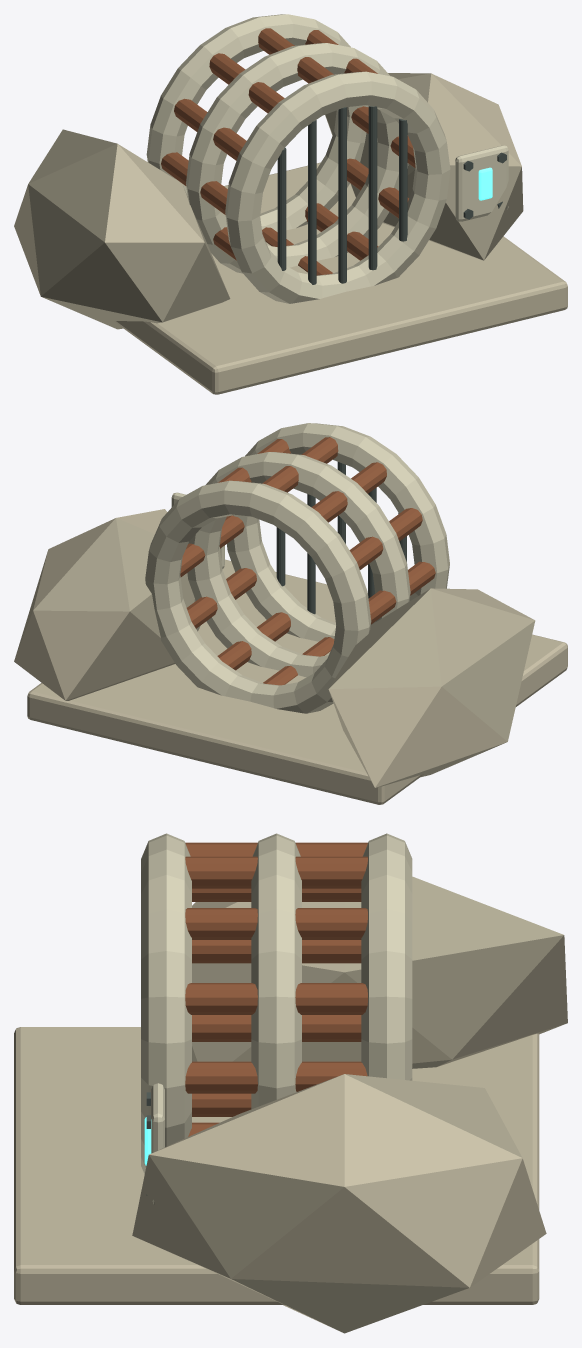
Rendered from Spring_Intake.glb.
3 renders of one model, top to bottom at view 1: azimuth 30°, elevation 25°; view 2: azimuth 150°, elevation 25°; view 3: azimuth 270°, elevation 25°, orthographic. The views are drawn at different scales.
Visible parts, largest first — view 1: Intake base, Intake abutment, Pipe collar, Pipe collar.001, Pipe collar.002, Intake abutment.001, Service plate, Intake grille.003, Intake grille.002, Intake grille.001, Outer pipe stave.005, Outer pipe stave.004 (+9 smaller); view 2: Intake abutment, Intake base, Intake abutment.001, Pipe collar.002, Pipe collar.001, Pipe collar, Outer pipe stave.005, Outer pipe stave.004, Outer pipe stave.011, Outer pipe stave.010, Outer pipe stave.006, Outer pipe stave.003 (+5 smaller); view 3: Intake abutment.001, Intake base, Intake abutment, Pipe collar, Pipe collar.001, Pipe collar.002, Outer pipe stave.001, Outer pipe stave.002, Outer pipe stave.003, Outer pipe stave, Outer pipe stave.007, Outer pipe stave.006 (+4 smaller).
Boxes of the visible parts, left/top/right/bottom form: Intake base: left=114, top=162, right=567, bottom=394; Intake abutment: left=14, top=129, right=230, bottom=329; Pipe collar: left=225, top=71, right=450, bottom=303; Pipe collar.001: left=186, top=43, right=408, bottom=273; Pipe collar.002: left=146, top=14, right=366, bottom=231; Intake abutment.001: left=325, top=73, right=523, bottom=260; Service plate: left=455, top=145, right=508, bottom=221; Intake grille.003: left=368, top=106, right=377, bottom=270; Intake grille.002: left=338, top=107, right=346, bottom=283; Intake grille.001: left=308, top=120, right=316, bottom=284; Outer pipe stave.005: left=174, top=98, right=246, bottom=160; Outer pipe stave.004: left=209, top=53, right=284, bottom=113; Intake abutment: left=328, top=588, right=535, bottom=787; Intake base: left=27, top=559, right=567, bottom=804; Intake abutment.001: left=14, top=509, right=200, bottom=700; Pipe collar.002: left=145, top=480, right=371, bottom=713; Pipe collar.001: left=187, top=452, right=410, bottom=677; Pipe collar: left=226, top=423, right=449, bottom=641; Outer pipe stave.005: left=349, top=508, right=422, bottom=569; Outer pipe stave.004: left=311, top=462, right=386, bottom=522; Outer pipe stave.011: left=186, top=568, right=256, bottom=628; Outer pipe stave.010: left=217, top=612, right=290, bottom=670; Outer pipe stave.006: left=368, top=561, right=435, bottom=624; Outer pipe stave.003: left=262, top=437, right=338, bottom=492; Intake abutment.001: left=132, top=1074, right=546, bottom=1333; Intake base: left=14, top=1027, right=539, bottom=1304; Intake abutment: left=192, top=876, right=567, bottom=1068; Pipe collar: left=141, top=833, right=191, bottom=1173; Pipe collar.001: left=251, top=833, right=301, bottom=1109; Pipe collar.002: left=361, top=833, right=412, bottom=1080; Outer pipe stave.001: left=185, top=983, right=367, bottom=1014; Outer pipe stave.002: left=185, top=908, right=367, bottom=939; Outer pipe stave.003: left=185, top=856, right=367, bottom=888; Outer pipe stave: left=185, top=1061, right=367, bottom=1093; Outer pipe stave.007: left=192, top=1015, right=361, bottom=1041; Outer pipe stave.006: left=192, top=940, right=361, bottom=963.
Bounding box in the file's own units: 4.38 × 2.45 × 3.27.
